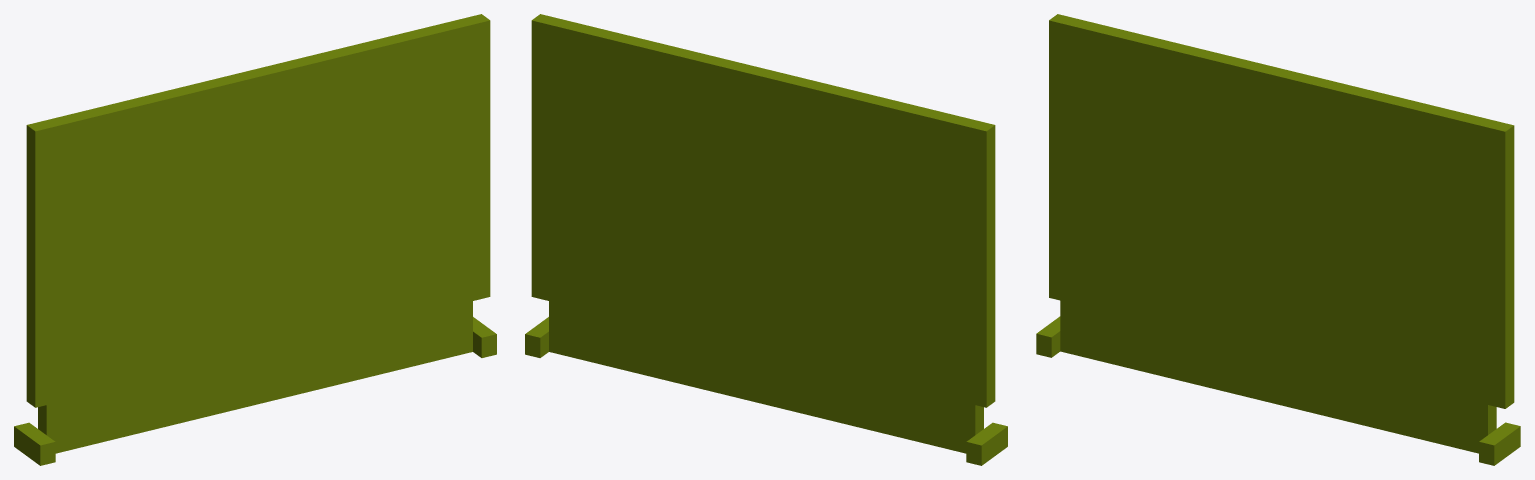
3 views of the same model, side by side, from view 1: azimuth 30°, elevation 25°; view 2: azimuth 150°, elevation 25°; view 3: azimuth 330°, elevation 25° (orthographic).
Parts seen in each view (by area): view 1: Tele; view 2: Tele; view 3: Tele.
Part boxes in pixels (x1,y1,x2,y2): Tele: (14, 14, 496, 465); Tele: (525, 14, 1007, 465); Tele: (1036, 14, 1520, 465).
Bounding box in the file's own units: 1.51 × 1.03 × 0.15.
